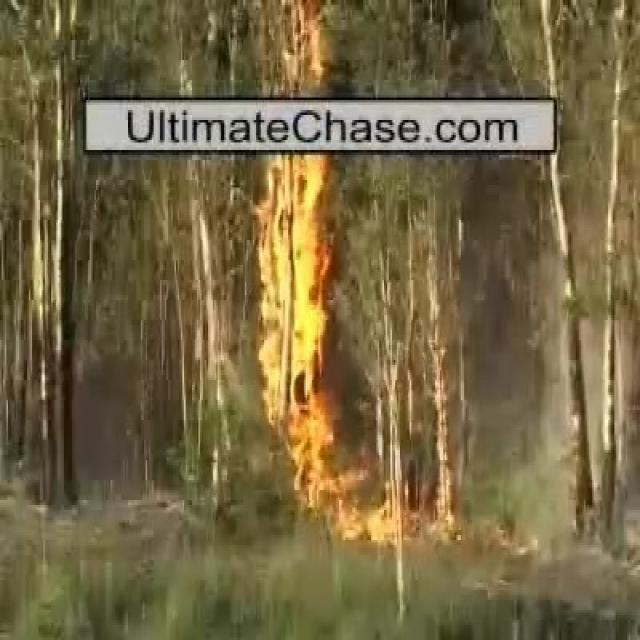fire: (260, 156, 334, 458), (292, 25, 321, 93)
